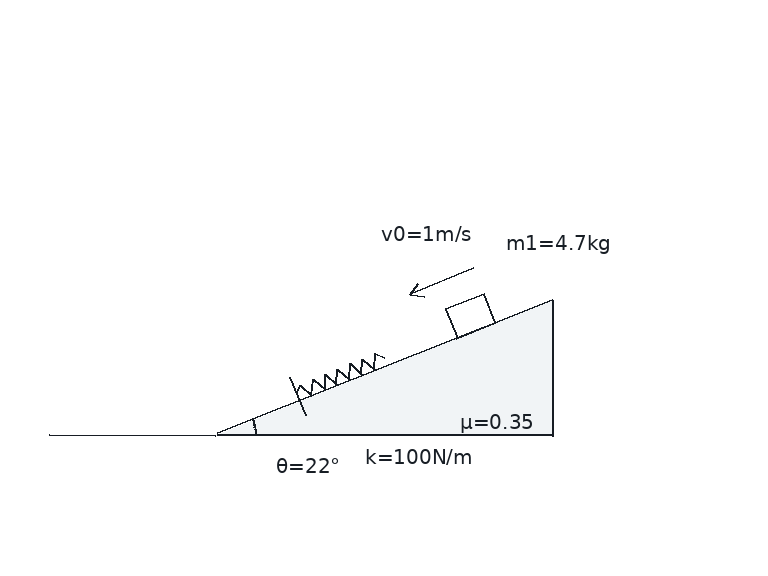block: (443, 292, 497, 340)
ramp: (214, 297, 554, 437)
spring: (295, 352, 386, 396)
